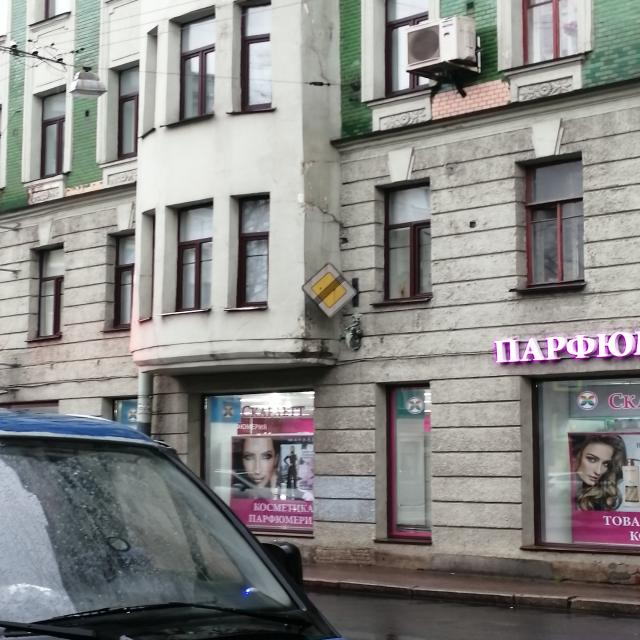road sign: (306, 262, 360, 318)
